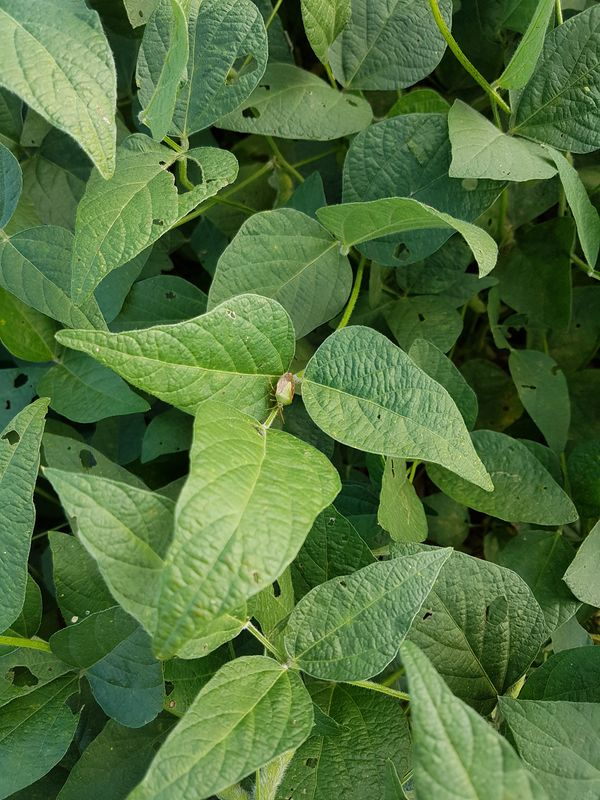Edessa_meditabunda: (259, 367, 305, 425)
